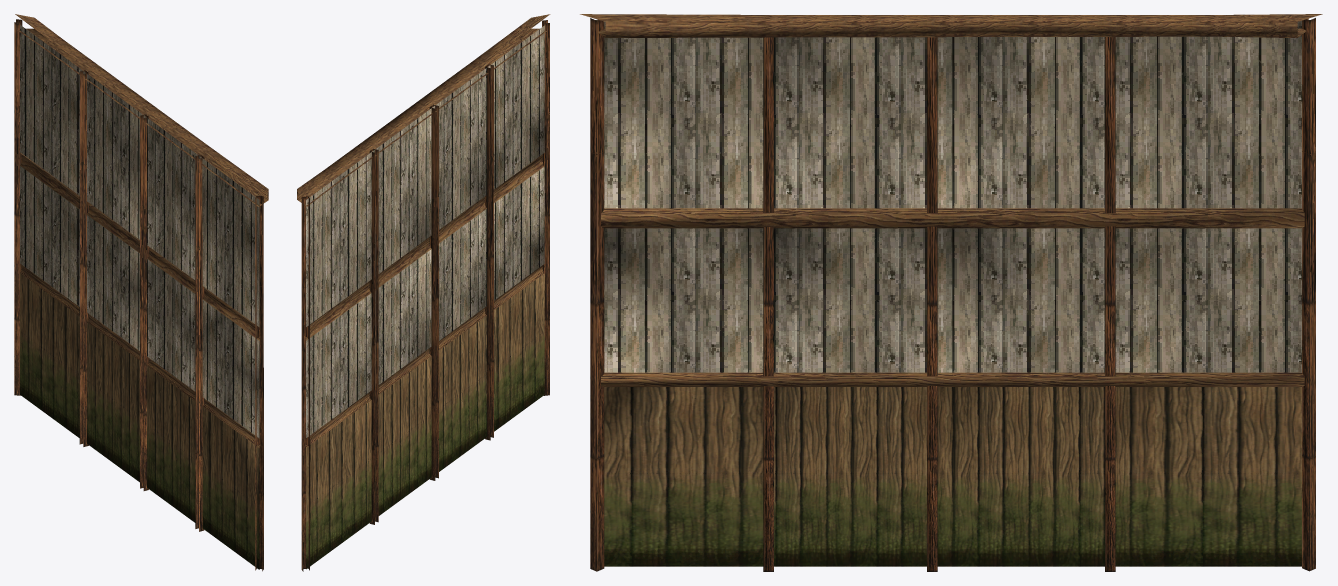
The model's file is LAKETOWN_WAREHOUSE3_PS_WH3_SIDEWALL99848__GX.fbx.
3 renders of one model, left to right at view 1: azimuth 30°, elevation 25°; view 2: azimuth 150°, elevation 25°; view 3: azimuth 270°, elevation 25°, orthographic. The views are drawn at different scales.
Visible parts, largest first — view 1: LAKETOWN_WAREHOUSE3_PS_WH3_SIDEWALL99848__GX; view 2: LAKETOWN_WAREHOUSE3_PS_WH3_SIDEWALL99848__GX; view 3: LAKETOWN_WAREHOUSE3_PS_WH3_SIDEWALL99848__GX.
Boxes of the visible parts, x1=… form: LAKETOWN_WAREHOUSE3_PS_WH3_SIDEWALL99848__GX: x1=14, y1=14, x2=268, y2=571; LAKETOWN_WAREHOUSE3_PS_WH3_SIDEWALL99848__GX: x1=297, y1=14, x2=550, y2=571; LAKETOWN_WAREHOUSE3_PS_WH3_SIDEWALL99848__GX: x1=580, y1=14, x2=1322, y2=571.
Bounding box in the file's own units: 6348 × 136952 × 165545.
6 materials, 6 textured.
